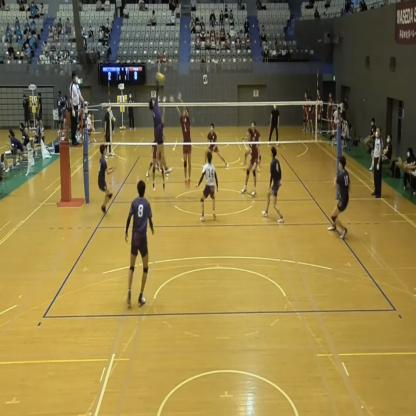spike: (148, 70, 174, 180)
